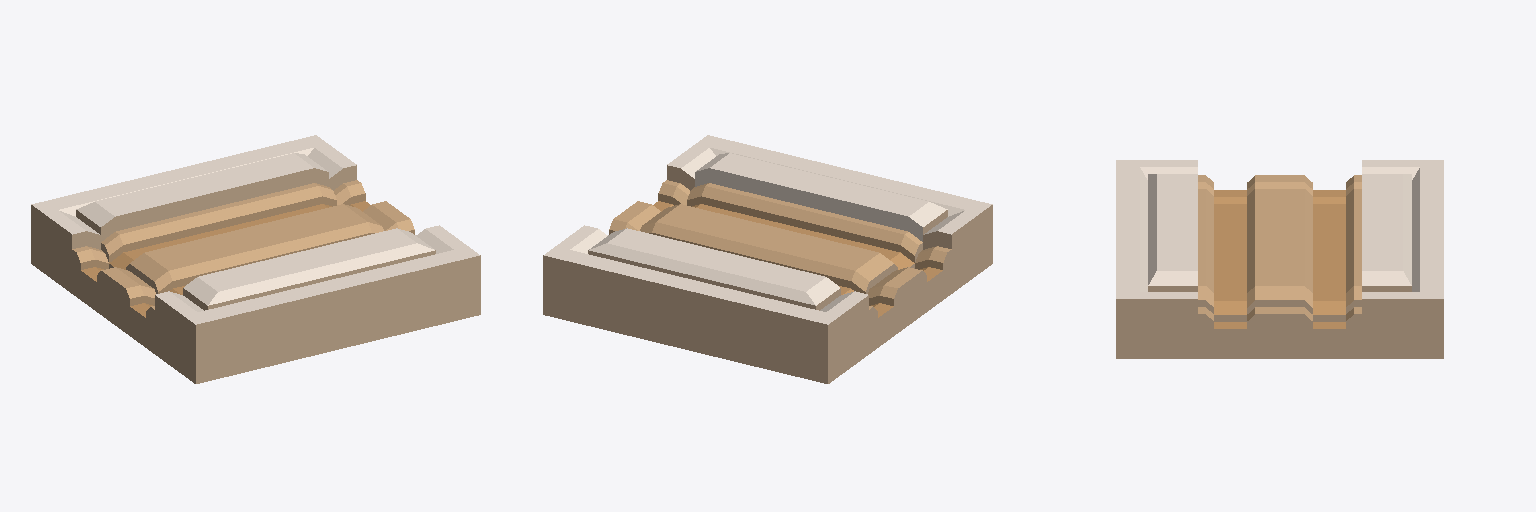
Rendered from Puzzle_Track_Button_Straight.obj.
3 renders of one model, left to right at view 1: azimuth 30°, elevation 25°; view 2: azimuth 150°, elevation 25°; view 3: azimuth 270°, elevation 25°, orthographic.
Parts seen in each view (by area): view 1: object2, object1; view 2: object2, object1; view 3: object1, object2.
Part boxes in pixels (bbox=[...]): object2: bbox=[31, 135, 480, 383]; object1: bbox=[76, 153, 435, 310]; object2: bbox=[543, 135, 992, 383]; object1: bbox=[588, 153, 947, 310]; object1: bbox=[1148, 174, 1411, 321]; object2: bbox=[1116, 160, 1443, 358].
Size of the model in its own units: 1 by 0.225 by 1.